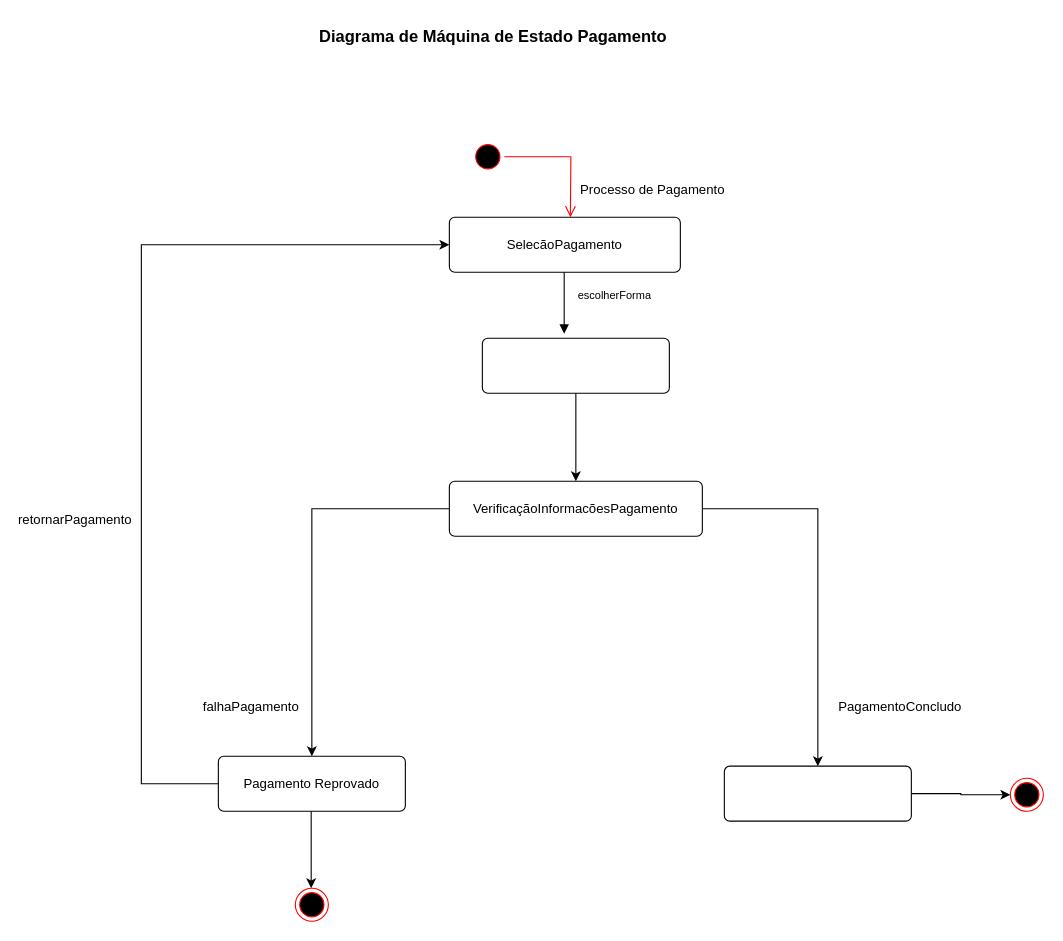
This 1063x941 diagram has some shape labels left out. The centre of each missing label's shape, as x and y in pixels:
InserçãoDeInformaçõesDo Pagamento: point 575,365
Pagamento Aprovado: point 817,793
